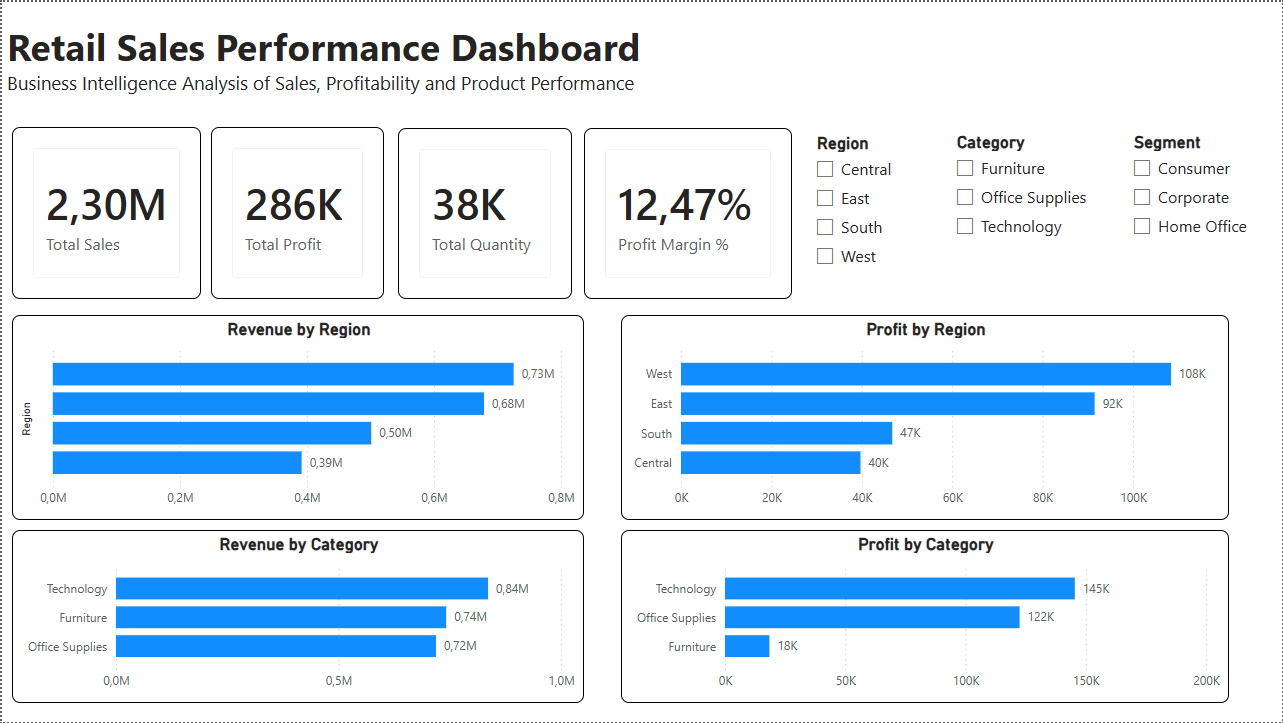

What the dashboard file says about the page in this screenshot:
{"tool":"powerbi","page":{"name":"Executive Overview","canvas":[1280,720],"ordinal":0},"visuals":[{"type":"cardVisual","fields":{"Data":["SampleSuperstore.Total Sales"]},"box":[9.8,124.7,189.5,172.4],"z":0},{"type":"cardVisual","fields":{"Data":["SampleSuperstore.Total Profit"]},"box":[209.1,124.7,172.4,172.4],"z":1000},{"type":"cardVisual","fields":{"Data":["SampleSuperstore.Total Quantity"]},"box":[396.2,126,173.6,171.2],"z":2000},{"type":"cardVisual","fields":{"Data":["SampleSuperstore.Profit Margin %"]},"box":[582.1,126,207.9,171.2],"z":3000},{"type":"clusteredBarChart","title":"Revenue by Region","fields":{"Category":["SampleSuperstore.Region"],"Y":["SampleSuperstore.Total Sales"]},"box":[9.8,313,572.3,205.4],"z":4000},{"type":"clusteredBarChart","title":"Profit by Region","fields":{"Category":["SampleSuperstore.Region"],"Y":["SampleSuperstore.Total Profit"]},"box":[618.8,313,607.7,205.4],"z":5000},{"type":"clusteredBarChart","title":"Revenue by Category","fields":{"Category":["SampleSuperstore.Category"],"Y":["SampleSuperstore.Total Sales"]},"box":[9.8,528.3,572.3,172.4],"z":6000},{"type":"clusteredBarChart","title":"Profit by Category","fields":{"Category":["SampleSuperstore.Category"],"Y":["SampleSuperstore.Total Profit"]},"box":[618.8,528.3,607.7,172.4],"z":7000},{"type":"textbox","box":[0,13.8,707.5,92.5],"z":8000},{"type":"slicer","fields":{"Values":["SampleSuperstore.Region"]},"box":[802.2,126,130.8,171.2],"z":9000},{"type":"slicer","fields":{"Values":["SampleSuperstore.Category"]},"box":[941.6,124.7,156.5,172.4],"z":10000},{"type":"slicer","fields":{"Values":["SampleSuperstore.Segment"]},"box":[1118.9,124.7,133.3,172.4],"z":11000}]}

Visuals, with their boxes in screenshot pixels (x1, y1, x2, y2), scaled from the page's 1280x720 canvas onto the 1283x723 screenshot:
cardVisual - SampleSuperstore.Total Sales: l=10, t=125, r=200, b=298
cardVisual - SampleSuperstore.Total Profit: l=210, t=125, r=382, b=298
cardVisual - SampleSuperstore.Total Quantity: l=397, t=127, r=571, b=298
cardVisual - SampleSuperstore.Profit Margin %: l=583, t=127, r=792, b=298
"Revenue by Region" clusteredBarChart: l=10, t=314, r=583, b=521
"Profit by Region" clusteredBarChart: l=620, t=314, r=1229, b=521
"Revenue by Category" clusteredBarChart: l=10, t=531, r=583, b=704
"Profit by Category" clusteredBarChart: l=620, t=531, r=1229, b=704
textbox: l=0, t=14, r=709, b=107
slicer - SampleSuperstore.Region: l=804, t=127, r=935, b=298
slicer - SampleSuperstore.Category: l=944, t=125, r=1101, b=298
slicer - SampleSuperstore.Segment: l=1122, t=125, r=1255, b=298
